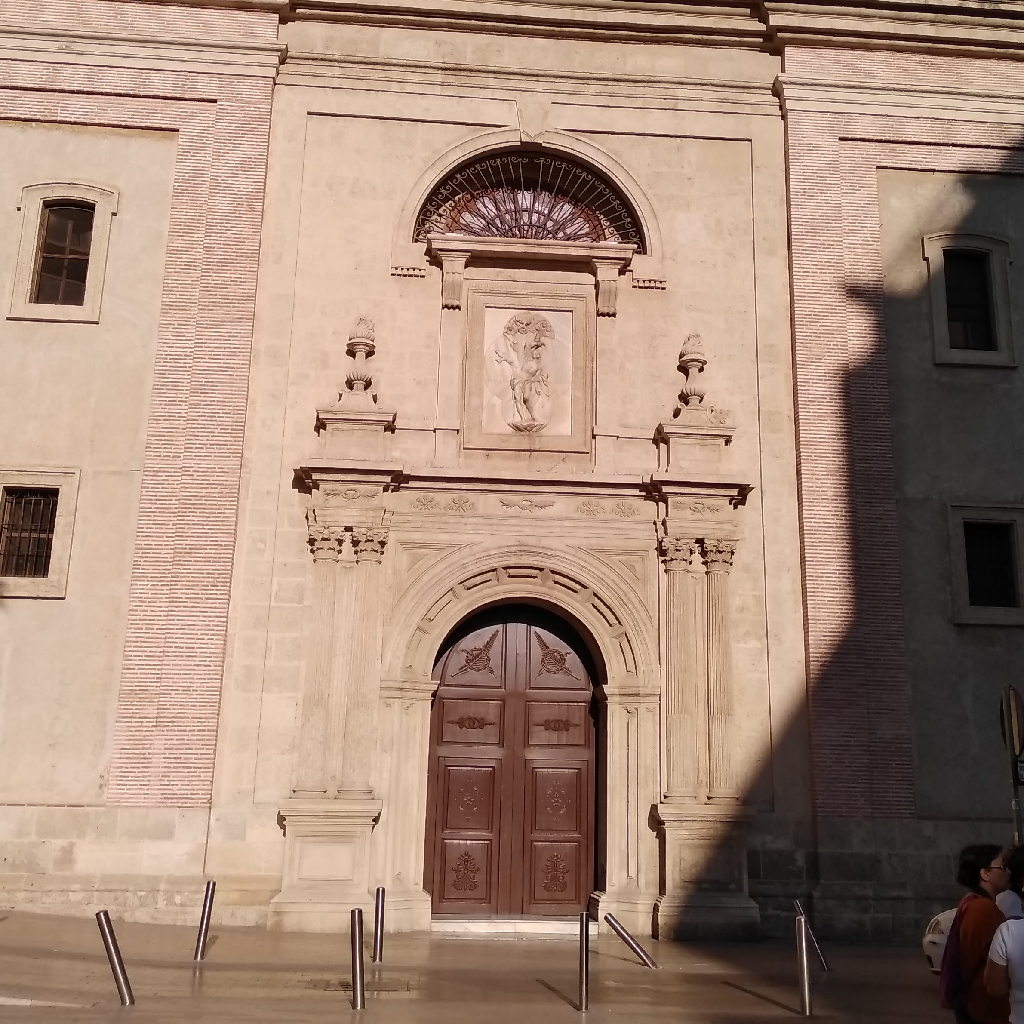arco-medio-punto: (425, 585, 616, 718)
